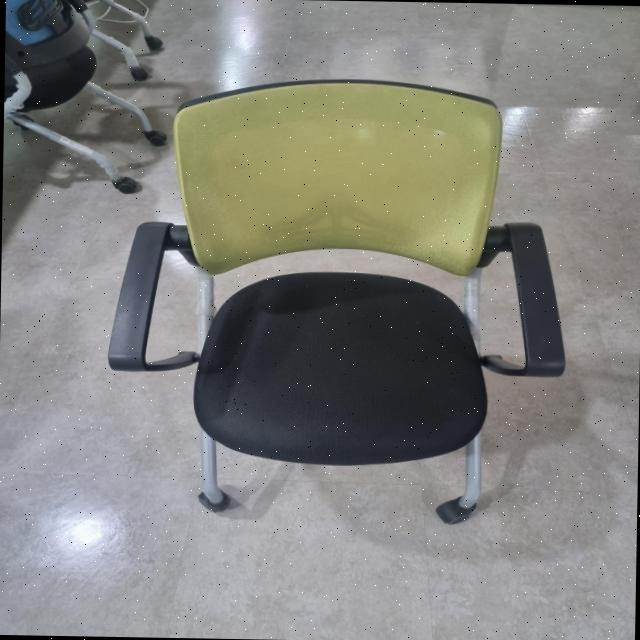Chair: (61, 78, 620, 544)
